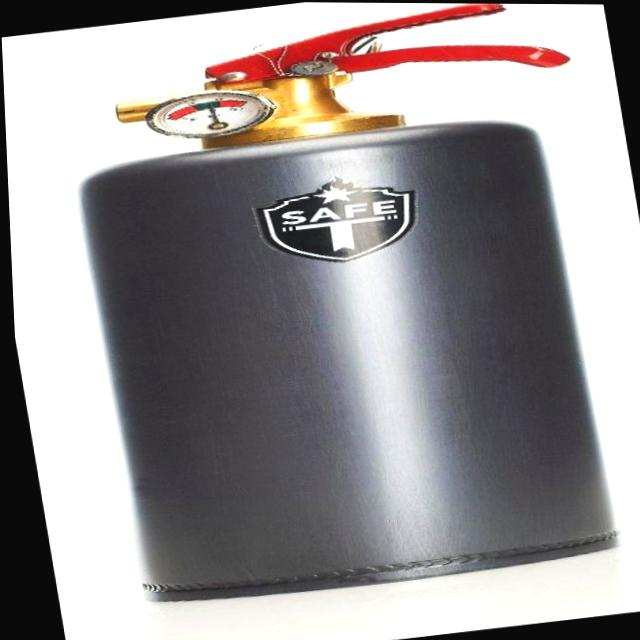FireExtinguisher: (33, 0, 640, 621)
